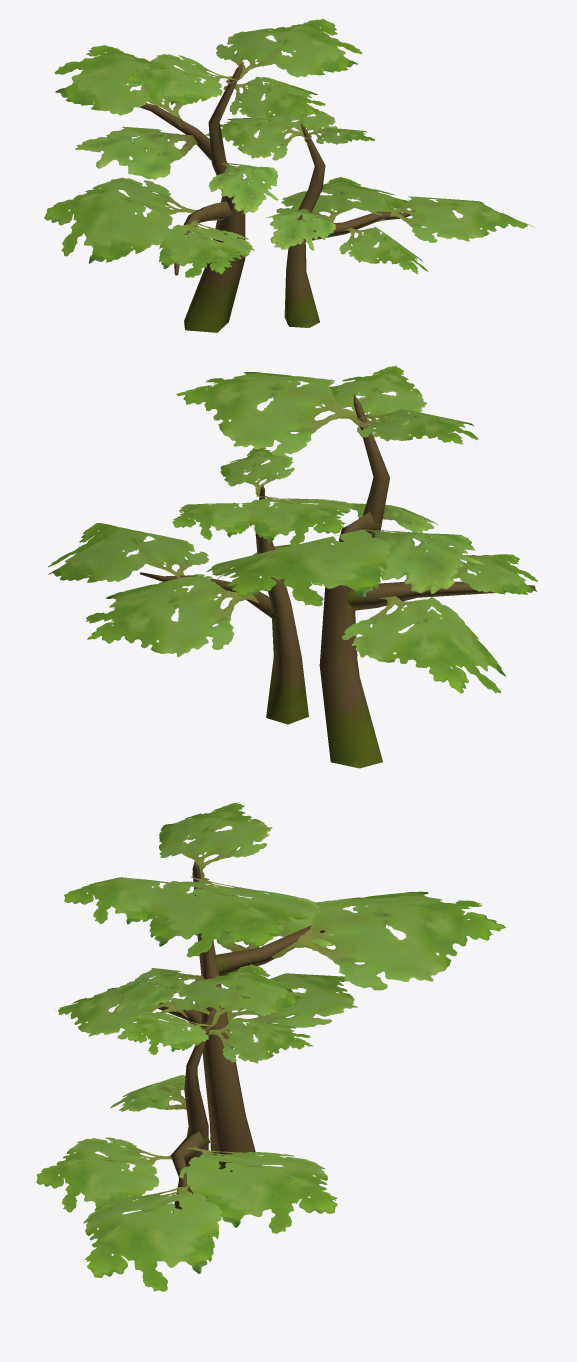
File: liemo_plant_07 #55760.fbx
3 views of the same model, one above another, from view 1: azimuth 30°, elevation 25°; view 2: azimuth 150°, elevation 25°; view 3: azimuth 270°, elevation 25° (orthographic). The views are drawn at different scales.
Visible parts, largest first — view 1: liemo_plant_07; view 2: liemo_plant_07; view 3: liemo_plant_07.
Part boxes in pixels (x1,y1,x2,y2): liemo_plant_07: [44, 19, 534, 332]; liemo_plant_07: [48, 365, 537, 768]; liemo_plant_07: [36, 802, 505, 1291].
Size of the model in its own units: 0.0602 by 0.033 by 0.0464.
